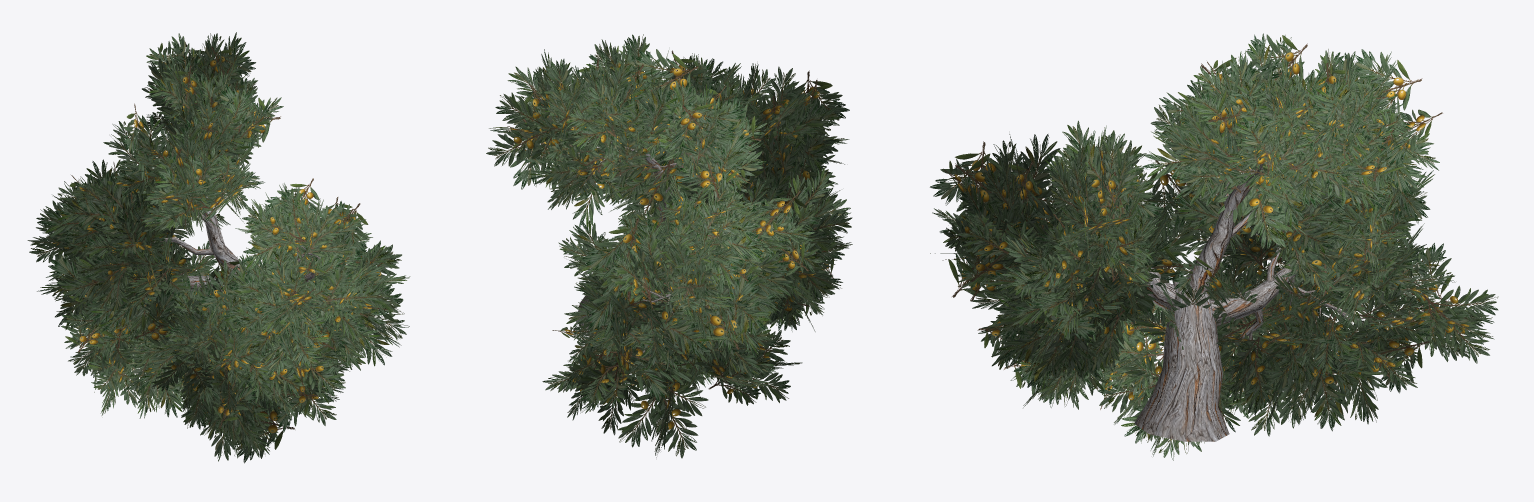
The model's file is nature-white-olive-sunleaf_v3.glb.
3 renders of one model, left to right at view 1: azimuth 30°, elevation 25°; view 2: azimuth 150°, elevation 25°; view 3: azimuth 270°, elevation 25°, orthographic. The views are drawn at different scales.
Parts seen in each view (by area): view 1: nature-white-olive-sunleaf; view 2: nature-white-olive-sunleaf; view 3: nature-white-olive-sunleaf.
Boxes of the visible parts, bbox=[...] form: nature-white-olive-sunleaf: bbox=[27, 32, 410, 463]; nature-white-olive-sunleaf: bbox=[486, 34, 852, 458]; nature-white-olive-sunleaf: bbox=[930, 33, 1498, 460].
Bounding box in the file's own units: 4.74 × 5.87 × 7.01.
Materials: 2 (2 with a texture image).
